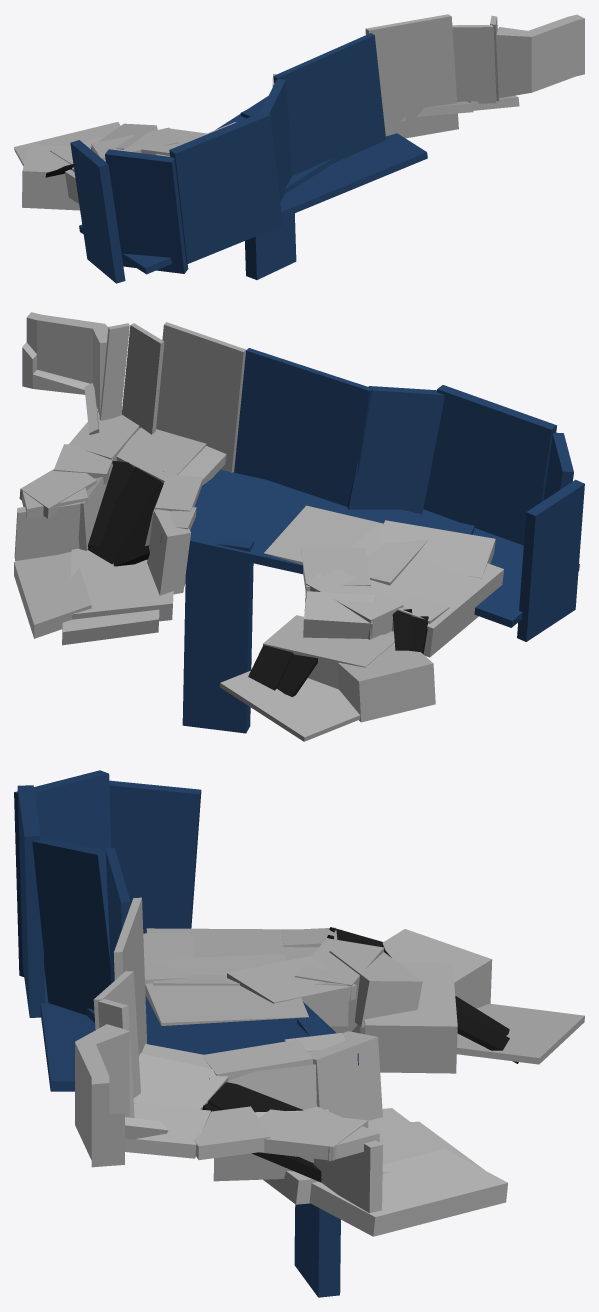
File: 3D_BlockOut_Q1.fbx
3 renders of one model, top to bottom at view 1: azimuth 30°, elevation 25°; view 2: azimuth 150°, elevation 25°; view 3: azimuth 270°, elevation 25°, orthographic. The views are drawn at different scales.
Visible parts, largest first — view 1: Eau1__1_, Eau1__6__1, Eau1__4_, Eau1__2_, Cube_1, Eau1, Eau1__3_, Eau1__6_, Cube__4_, Eau_2__1_, Eau1__5__1, Cube__6__1 (+7 smaller); view 2: Eau1__6__1, Eau1__1_, Eau_2__1_, Eau_2, Eau1__5__1, Eau1__4_, Eau1__3_, Cube_1, Cube__5__1, Cube__4_, Cube__9_, Cube (+29 smaller); view 3: Eau1__5__1, Eau1__3_, Cube__33_, Cube__2_, Cube_1, Cube__9_, Eau1__2_, Cube__14_, Cube__5__1, Eau_2, Eau1__1_, Cube (+27 smaller).
Part boxes in pixels (left/top/right/bottom): Eau1__1_: left=169, top=111, right=282, bottom=263; Eau1__6__1: left=273, top=33, right=385, bottom=176; Eau1__4_: left=365, top=14, right=458, bottom=138; Eau1__2_: left=105, top=149, right=188, bottom=273; Cube_1: left=496, top=14, right=584, bottom=98; Eau1: left=79, top=133, right=427, bottom=274; Eau1__3_: left=70, top=140, right=125, bottom=283; Eau1__6_: left=452, top=25, right=496, bottom=103; Cube__4_: left=22, top=144, right=79, bottom=210; Eau_2__1_: left=240, top=102, right=296, bottom=279; Eau1__5__1: left=260, top=79, right=291, bottom=201; Cube__6__1: left=91, top=127, right=179, bottom=159; Eau1__6__1: left=234, top=348, right=372, bottom=506; Eau1__1_: left=423, top=385, right=557, bottom=545; Eau_2__1_: left=182, top=536, right=253, bottom=733; Eau_2: left=160, top=469, right=474, bottom=574; Eau1__5__1: left=347, top=386, right=444, bottom=513; Eau1__4_: left=156, top=322, right=246, bottom=472; Eau1__3_: left=517, top=479, right=584, bottom=641; Cube_1: left=22, top=312, right=121, bottom=416; Cube__5__1: left=304, top=524, right=503, bottom=657; Cube__4_: left=337, top=631, right=435, bottom=722; Cube__9_: left=264, top=505, right=428, bottom=585; Cube: left=219, top=670, right=360, bottom=741; Eau1__5__1: left=32, top=837, right=110, bottom=1015; Eau1__3_: left=109, top=780, right=201, bottom=933; Cube__33_: left=309, top=1149, right=507, bottom=1236; Cube__2_: left=360, top=962, right=457, bottom=1073; Cube_1: left=75, top=1024, right=129, bottom=1167; Cube__9_: left=145, top=954, right=308, bottom=1025; Eau1__2_: left=14, top=770, right=111, bottom=976; Cube__14_: left=308, top=1031, right=382, bottom=1120; Cube__5__1: left=146, top=928, right=348, bottom=1026; Eau_2: left=86, top=995, right=358, bottom=1065; Eau1__1_: left=17, top=785, right=45, bottom=1017; Cube: left=457, top=1003, right=584, bottom=1064.
Size of the model in its own units: 5907 by 3214 by 4056.
